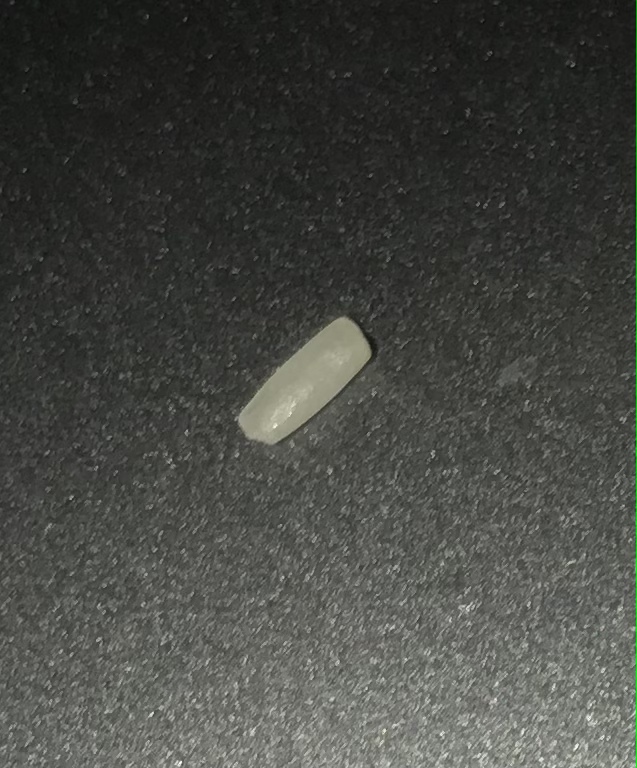Gao Tam Thom: (223, 298, 380, 456)
